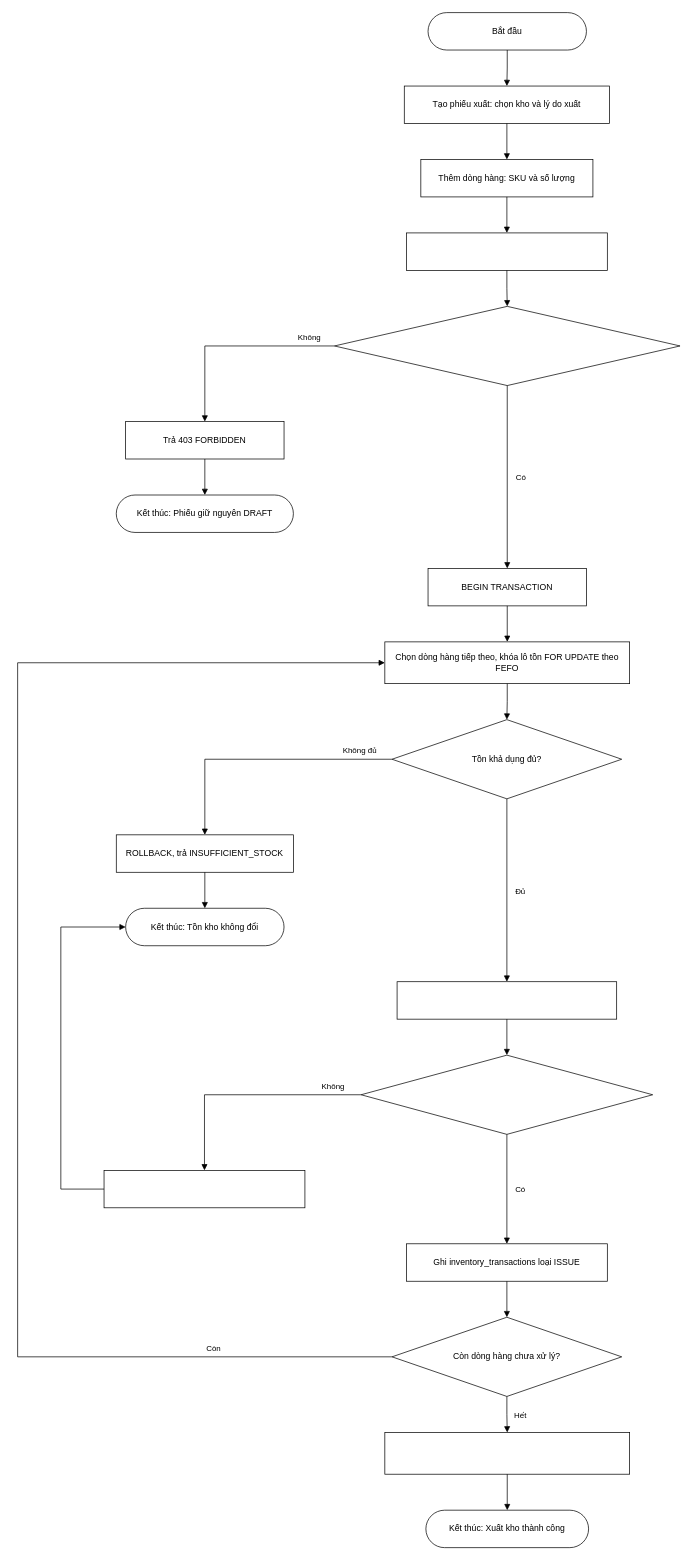
This 693x1560 diagram has some shape labels left out. Here are the shapes that lost their labels. From the top down, the box of each, then its label:
(406, 232, 607, 270): POST /goods-issues, phiếu lưu ở DRAFT
(334, 306, 680, 386): Người xác nhận có quyền goods_issues:confirm?
(396, 981, 617, 1019): Phân bổ vào từng lô, lô hết hạn sớm trước
(360, 1054, 653, 1134): UPDATE trừ tồn có ảnh hưởng dòng nào?
(103, 1170, 305, 1208): ROLLBACK, trả CONCURRENT_STOCK_UPDATE
(384, 1432, 630, 1474): Đổi trạng thái CONFIRMED, ghi audit_logs, COMMIT
